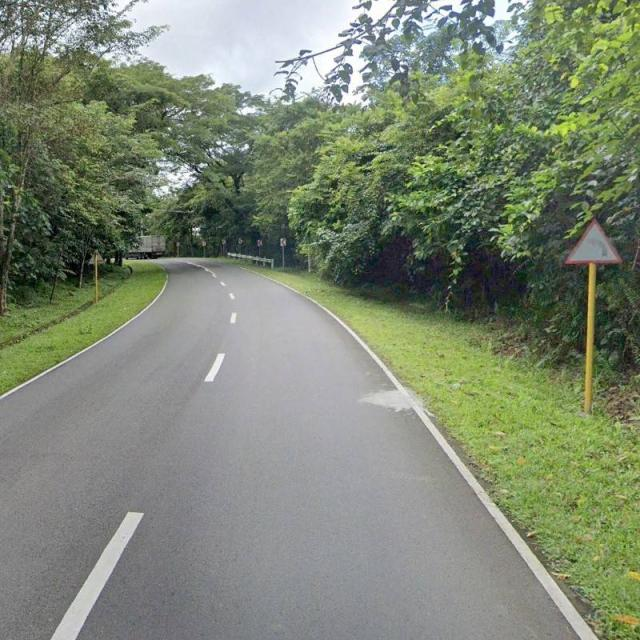warn_left_curve: (566, 217, 621, 264)
